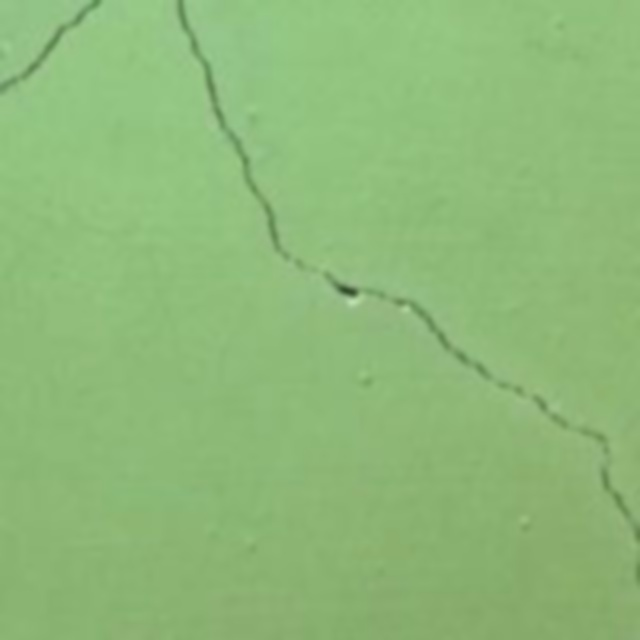SurfaceCrack: (142, 0, 640, 552)
